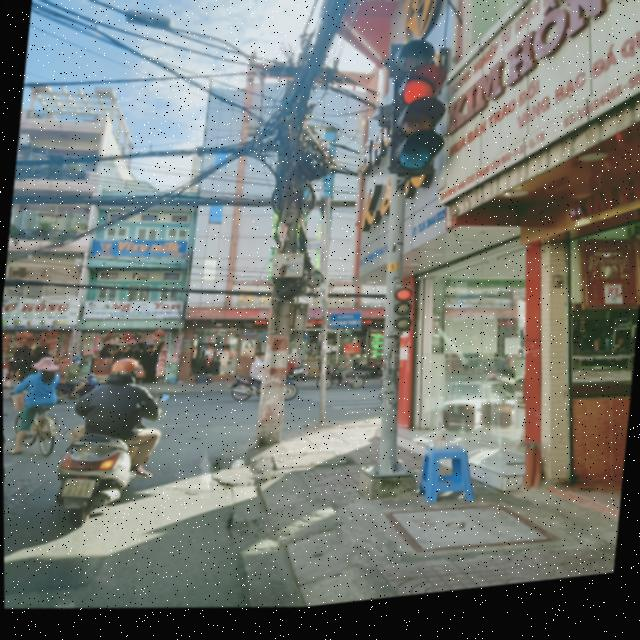Red: (374, 76, 452, 191), (379, 287, 420, 347)
